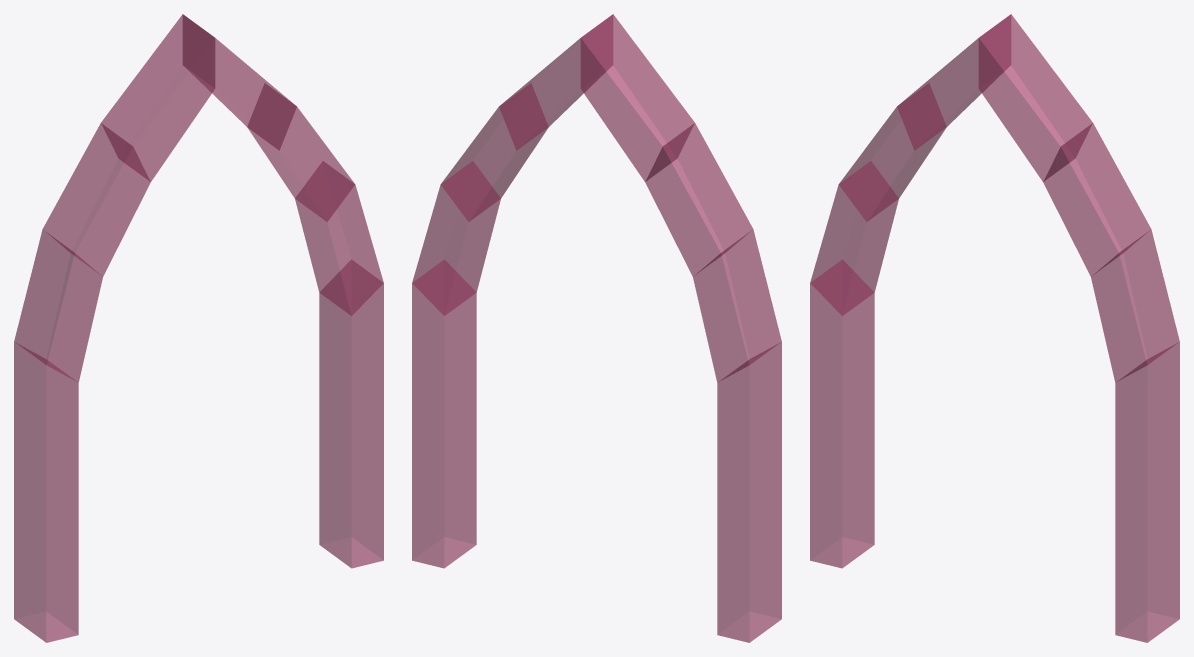
The model's file is SM_Bld_Archway_01_Collision.fbx.
3 views of the same model, side by side, from view 1: azimuth 30°, elevation 25°; view 2: azimuth 150°, elevation 25°; view 3: azimuth 330°, elevation 25° (orthographic).
Parts seen in each view (by area): view 1: SM_Bld_Archway_01_Collision; view 2: SM_Bld_Archway_01_Collision; view 3: SM_Bld_Archway_01_Collision.
Boxes of the visible parts, <box> form: SM_Bld_Archway_01_Collision: <box>14,14,383,642</box>; SM_Bld_Archway_01_Collision: <box>412,14,781,642</box>; SM_Bld_Archway_01_Collision: <box>810,14,1179,642</box>.
Size of the model in its own units: 266 by 424 by 44.19.
